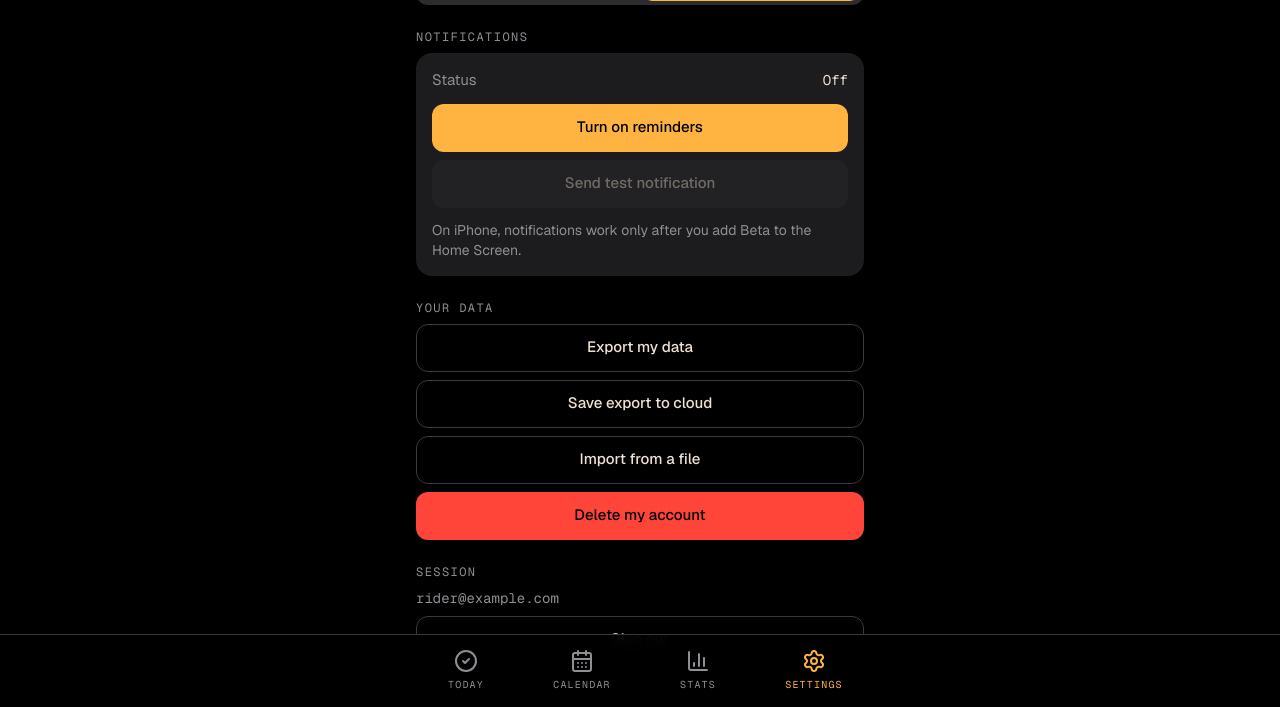
Test: Settings › export › downloads the account as a file
(page scrolled)
Click the 3rd button named "Export my data": coordinates (640, 348) [416,324,864,372]
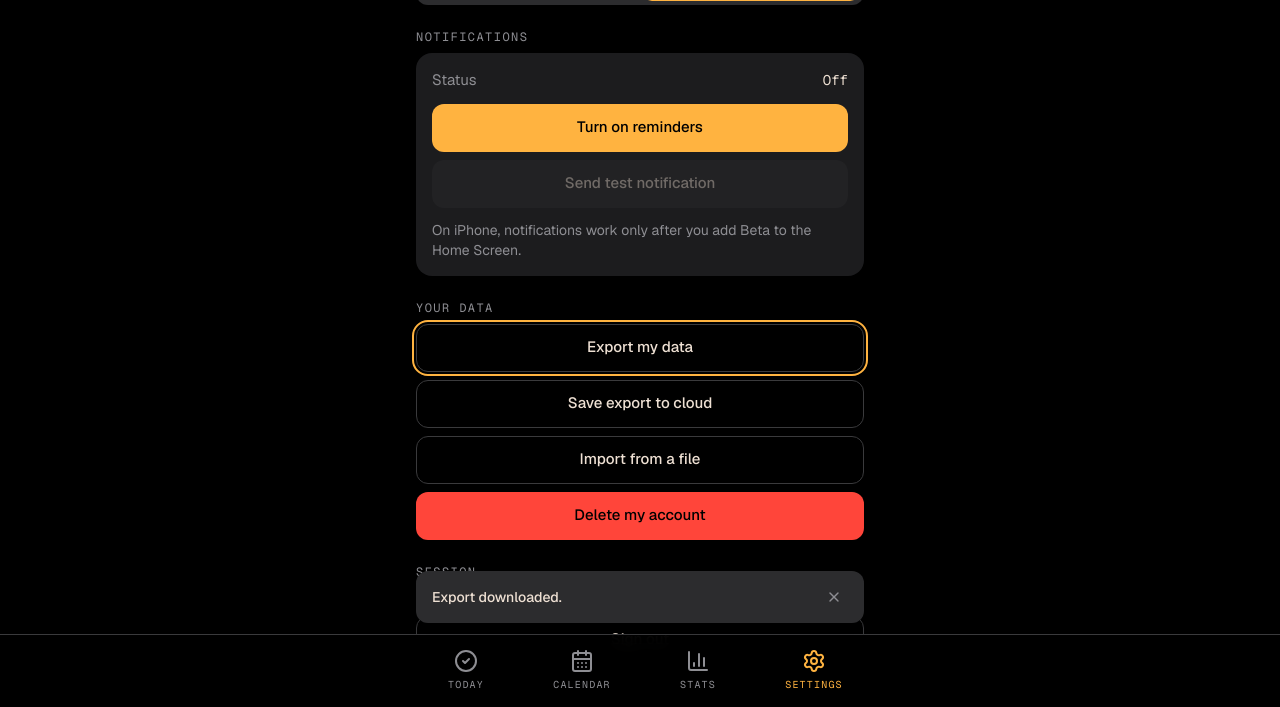
Expected: the text "Export downloaded." is shown, [432,588,562,606]
